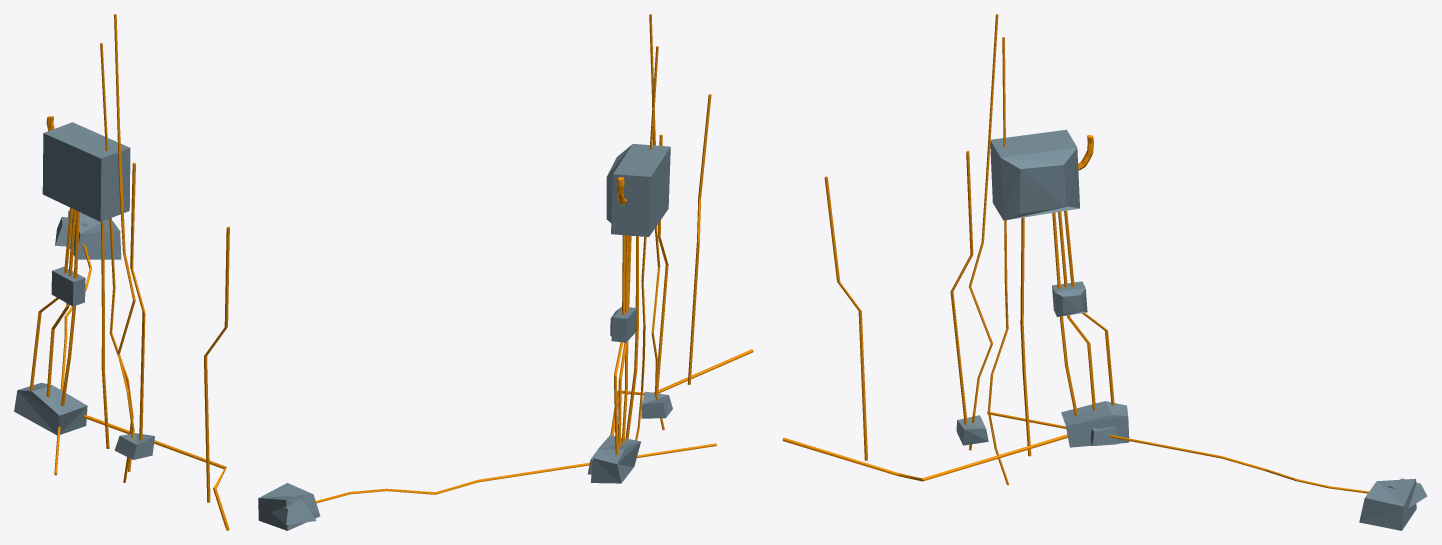
3 renders of one model, left to right at view 1: azimuth 30°, elevation 25°; view 2: azimuth 150°, elevation 25°; view 3: azimuth 270°, elevation 25°, orthographic. The views are drawn at different scales.
Parts seen in each view (by area): view 1: mesh_1656735787, mesh_255641215, mesh_378827461, group_681922313, group_339144570, group_289018487, group_1774180581, mesh_894806288, group_1041283119, mesh_188038389, group_699312672, group_64151041 (+4 smaller); view 2: mesh_1656735787, mesh_255641215, mesh_378827461, group_266583670, group_339144570, group_1774180581, group_681922313, mesh_894806288, mesh_188038389, group_414987723, group_1041283119, mesh_672334773 (+3 smaller); view 3: mesh_1656735787, mesh_378827461, mesh_255641215, group_681922313, group_699312672, group_1774180581, group_339144570, group_266583670, mesh_894806288, group_289018487, group_1041283119, mesh_188038389.
Part boxes in pixels (bbox=[...]): mesh_1656735787: bbox=[42, 122, 130, 221]; mesh_255641215: bbox=[14, 382, 87, 435]; mesh_378827461: bbox=[68, 210, 121, 259]; group_681922313: bbox=[114, 14, 135, 471]; group_339144570: bbox=[204, 226, 229, 502]; group_289018487: bbox=[130, 162, 145, 440]; group_1774180581: bbox=[100, 42, 133, 482]; mesh_894806288: bbox=[51, 266, 85, 306]; group_1041283119: bbox=[101, 221, 109, 448]; mesh_188038389: bbox=[114, 433, 154, 459]; group_699312672: bbox=[83, 415, 229, 530]; group_64151041: bbox=[61, 211, 79, 405]; mesh_1656735787: bbox=[606, 144, 670, 236]; mesh_255641215: bbox=[590, 435, 640, 483]; mesh_378827461: bbox=[258, 483, 320, 530]; group_266583670: bbox=[316, 443, 716, 503]; group_339144570: bbox=[687, 94, 711, 384]; group_1774180581: bbox=[635, 46, 658, 440]; group_681922313: bbox=[649, 14, 664, 430]; mesh_894806288: bbox=[610, 307, 636, 342]; mesh_188038389: bbox=[641, 391, 672, 418]; group_414987723: bbox=[614, 235, 625, 454]; group_1041283119: bbox=[625, 236, 638, 438]; mesh_672334773: bbox=[271, 494, 316, 525]; mesh_1656735787: bbox=[990, 129, 1079, 220]; mesh_378827461: bbox=[1359, 478, 1416, 530]; mesh_255641215: bbox=[1061, 401, 1129, 447]; group_681922313: bbox=[968, 14, 998, 450]; group_699312672: bbox=[782, 434, 1067, 481]; group_1774180581: bbox=[987, 37, 1009, 485]; group_339144570: bbox=[824, 176, 867, 460]; group_266583670: bbox=[987, 412, 1368, 493]; mesh_894806288: bbox=[1052, 281, 1087, 316]; group_289018487: bbox=[950, 151, 973, 424]; group_1041283119: bbox=[1020, 217, 1031, 456]; mesh_188038389: bbox=[956, 415, 988, 445].
Bounding box in the file's own units: 16.52 × 27.8 × 35.08.
